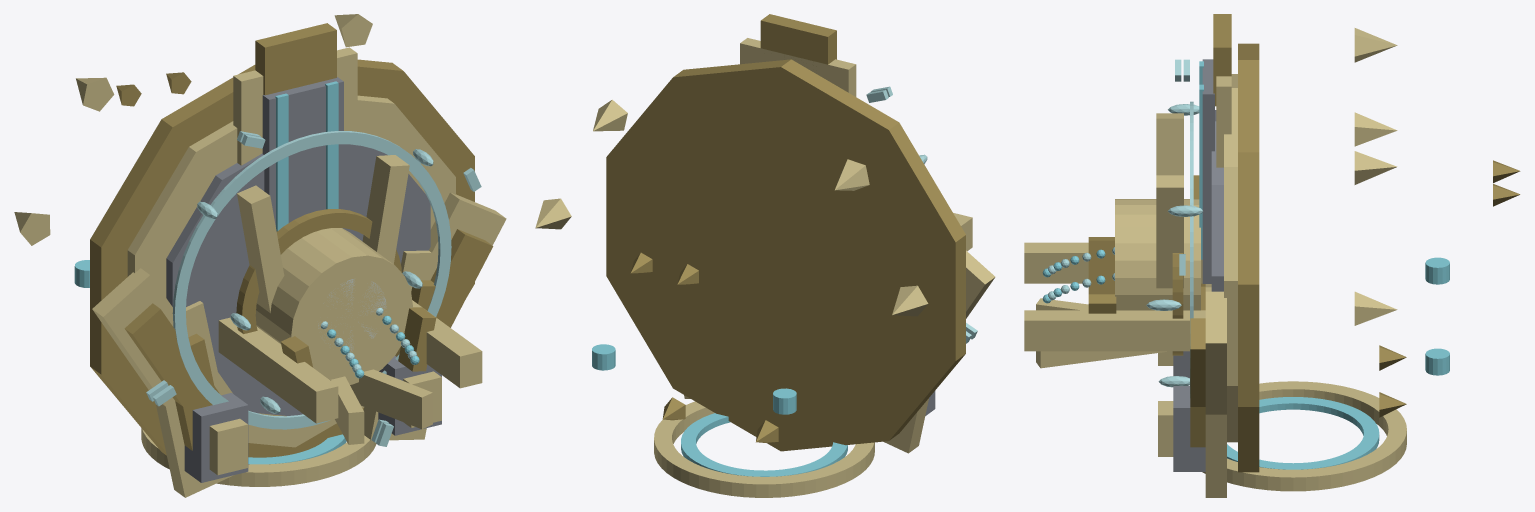
File: helias_stargate.glb
The picture shows the model from 3 angles, left to right: view 1: azimuth 30°, elevation 25°; view 2: azimuth 150°, elevation 25°; view 3: azimuth 270°, elevation 25°; orthographic projection. The views are drawn at different scales.
Parts seen in each view (by area): view 1: base_outer, core_shell, base_inner, base_mid, orbit_ring, runway_cap, ring_pylon_0, runway_nose, wing_0, stargate_ring, wing_cap_0, runway (+24 smaller); view 2: base_outer, stargate_ring, runway_nose, stargate_inner_glow, runway, wing_0, wing_2, wing_tip_1, wing_tip_0, wing_tip_3, wing_tip_2, engine_exhaust_0 (+1 smaller); view 3: base_outer, stargate_ring, ring_pylon_1, core_shell, base_mid, stargate_inner_glow, wing_1, hangar_arm_1, runway_cap, ring_pylon_0, engine_pod_1, wing_3 (+19 smaller).
Part boxes in pixels (x1,y1,x2,y2): base_outer: [90, 59, 474, 457]; core_shell: [255, 228, 412, 384]; base_inner: [166, 144, 430, 415]; base_mid: [127, 95, 455, 447]; orbit_ring: [172, 131, 451, 429]; runway_cap: [262, 77, 343, 228]; ring_pylon_0: [218, 317, 338, 423]; runway_nose: [255, 23, 336, 95]; wing_0: [92, 268, 232, 427]; stargate_ring: [141, 428, 376, 486]; wing_cap_0: [124, 303, 219, 419]; runway: [233, 47, 357, 165]; base_outer: [606, 59, 965, 451]; stargate_ring: [654, 401, 874, 497]; runway_nose: [760, 14, 836, 66]; stargate_inner_glow: [681, 413, 847, 476]; runway: [740, 38, 856, 96]; wing_0: [966, 250, 995, 318]; wing_2: [883, 398, 928, 453]; wing_tip_1: [535, 198, 571, 229]; wing_tip_0: [892, 285, 928, 316]; wing_tip_3: [593, 99, 627, 131]; wing_tip_2: [835, 159, 869, 190]; engine_exhaust_0: [773, 388, 796, 414]; base_outer: [1238, 43, 1259, 472]; stargate_ring: [1202, 381, 1406, 491]; ring_pylon_1: [1024, 310, 1205, 351]; core_shell: [1115, 199, 1200, 310]; base_mid: [1224, 74, 1237, 442]; stargate_inner_glow: [1227, 397, 1379, 469]; wing_1: [1205, 291, 1226, 414]; hangar_arm_1: [1156, 175, 1183, 288]; runway_cap: [1202, 59, 1214, 283]; ring_pylon_0: [1024, 242, 1202, 283]; engine_pod_1: [1173, 386, 1205, 471]; wing_3: [1205, 414, 1226, 497].
Size of the model in its own units: 2.98 by 3.05 by 3.23.
